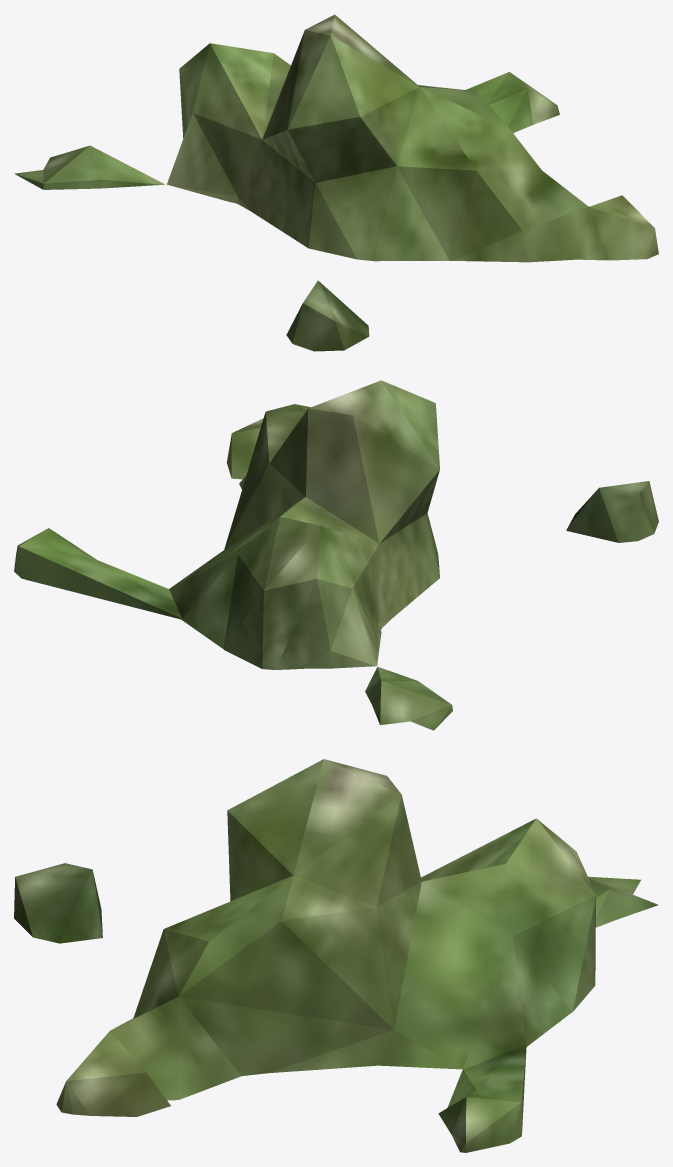
3 renders of one model, top to bottom at view 1: azimuth 30°, elevation 25°; view 2: azimuth 150°, elevation 25°; view 3: azimuth 270°, elevation 25°, orthographic. The views are drawn at different scales.
Bounding box in the file's own units: 0.7045 × 0.2731 × 0.7028.
1 material, 1 textured.
